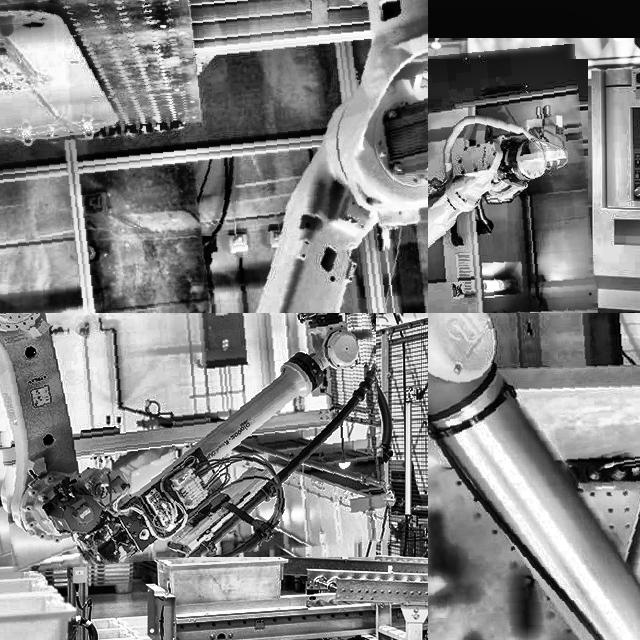robot: (0, 0, 428, 313), (0, 313, 383, 564), (428, 313, 640, 640), (428, 52, 594, 313)
